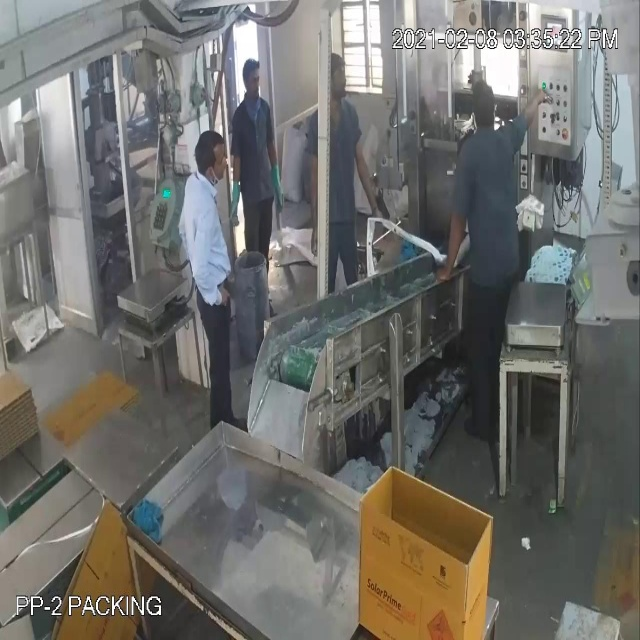Guantes: (265, 126, 289, 221), (226, 159, 250, 243)
Sin_guantes: (177, 199, 233, 322), (428, 196, 477, 298), (349, 122, 388, 235), (304, 139, 324, 268), (522, 88, 554, 133)
